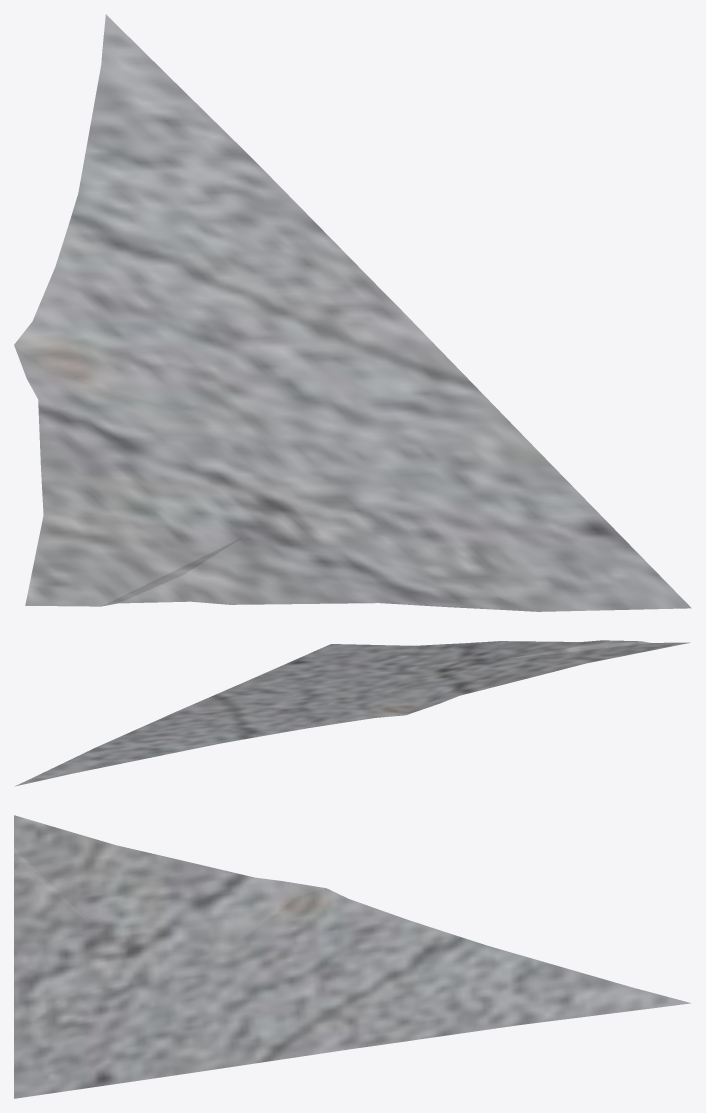
3 views of the same model, one above another, from view 1: azimuth 30°, elevation 25°; view 2: azimuth 150°, elevation 25°; view 3: azimuth 270°, elevation 25° (orthographic). The views are drawn at different scales.
Bounding box in the file's own units: 1.09 × 0.2592 × 1.67.
Materials: 1 (1 with a texture image).
